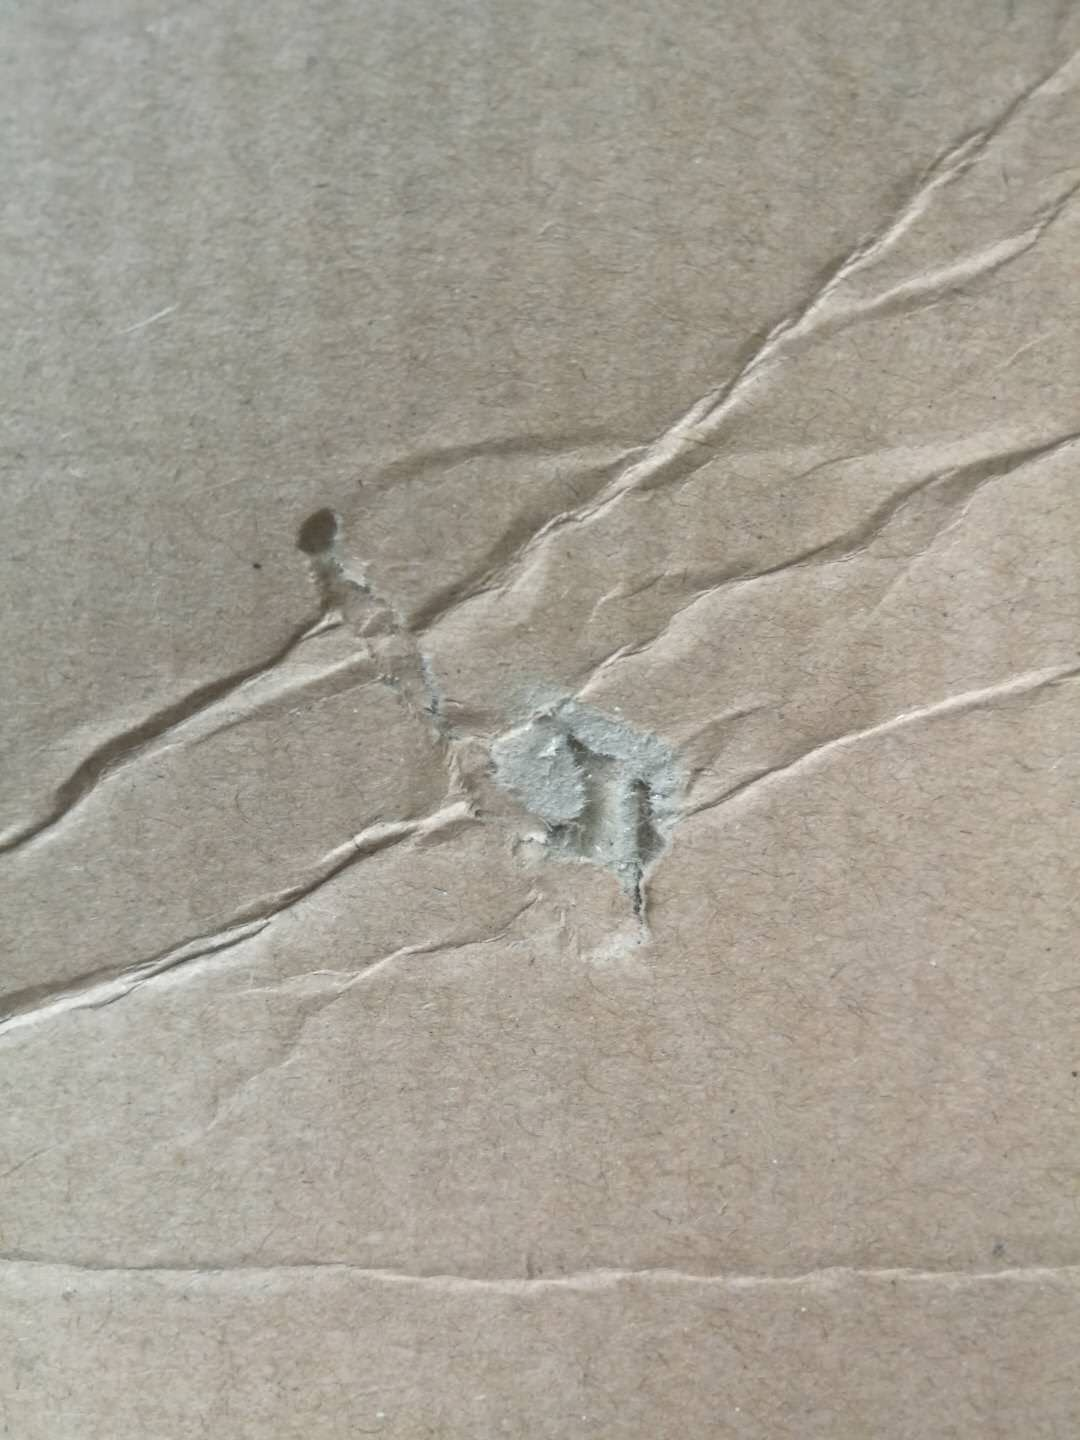defect: (3, 12, 1080, 1147), (2, 1208, 1079, 1345)
